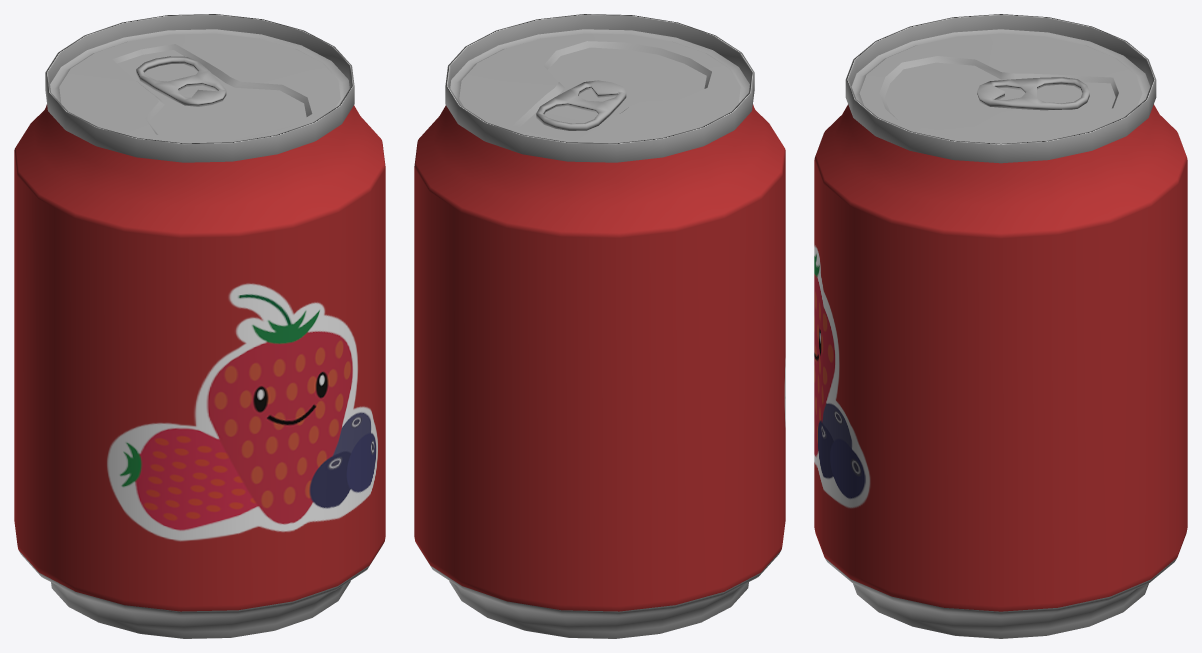
File: Soda Can.fbx
3 views of the same model, side by side, from view 1: azimuth 30°, elevation 25°; view 2: azimuth 150°, elevation 25°; view 3: azimuth 270°, elevation 25° (orthographic).
Visible parts, largest first — view 1: Soda_Can1; view 2: Soda_Can1; view 3: Soda_Can1.
Boxes of the visible parts, left/top/right/bottom form: Soda_Can1: left=14, top=14, right=385, bottom=638; Soda_Can1: left=414, top=14, right=785, bottom=638; Soda_Can1: left=814, top=14, right=1187, bottom=638.
Size of the model in its own units: 0.9791 by 1.44 by 0.9791.
Materials: 1 (1 with a texture image).
